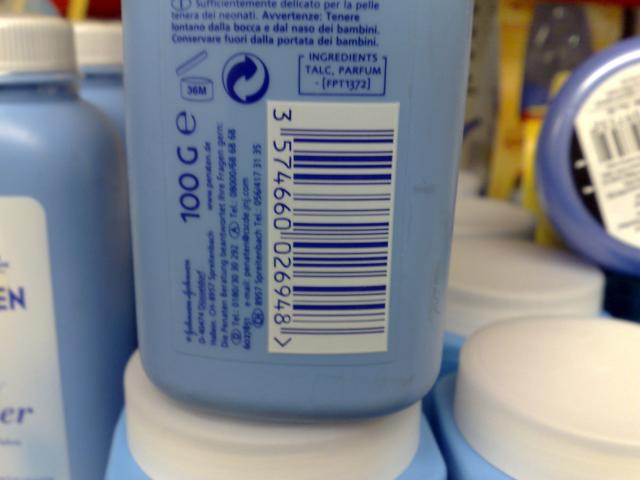Barkod: (288, 122, 392, 332)
